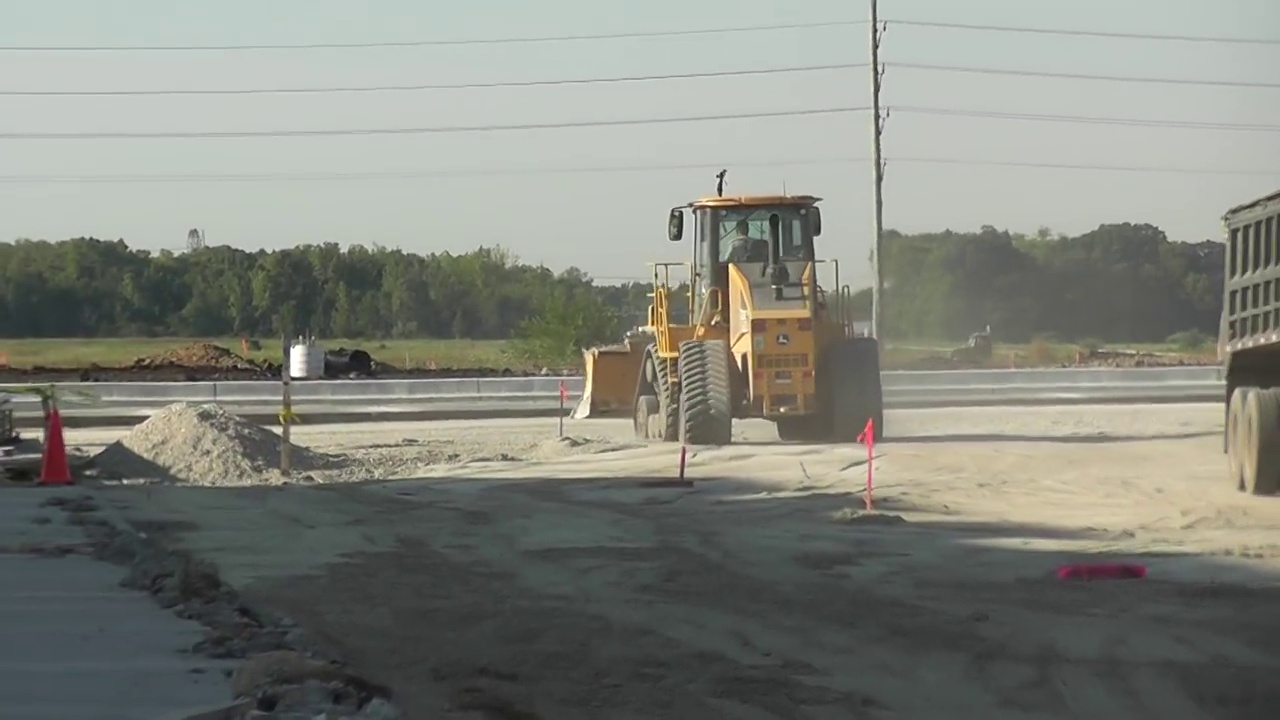person: (732, 213, 750, 278)
truck: (1201, 195, 1280, 495)
wheel loader: (569, 191, 882, 446)
